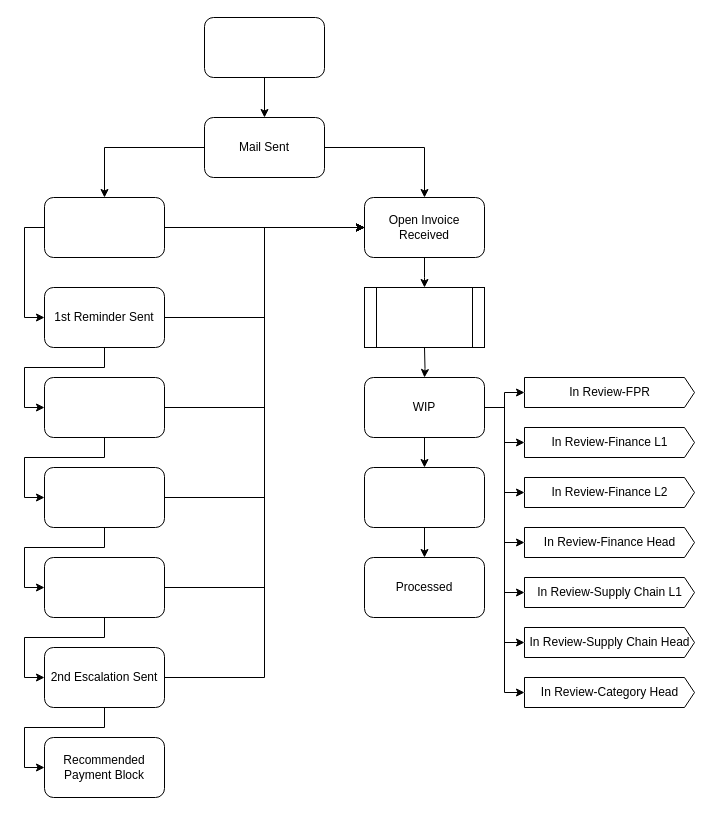
Some shapes in this 712 by 815 pixel diagram are drawn without their labels. Each missing label, with the centre of its shape:
"1st Escalation Sent" belongs at point (104, 587).
"2nd Reminder Sent" belongs at point (104, 407).
"3rd Reminder Sent" belongs at point (104, 497).
"Completed" belongs at point (424, 497).
"Not Started" belongs at point (264, 47).
"Open Invoice Not Received" belongs at point (104, 227).
"Reconciliation" belongs at point (424, 317).
